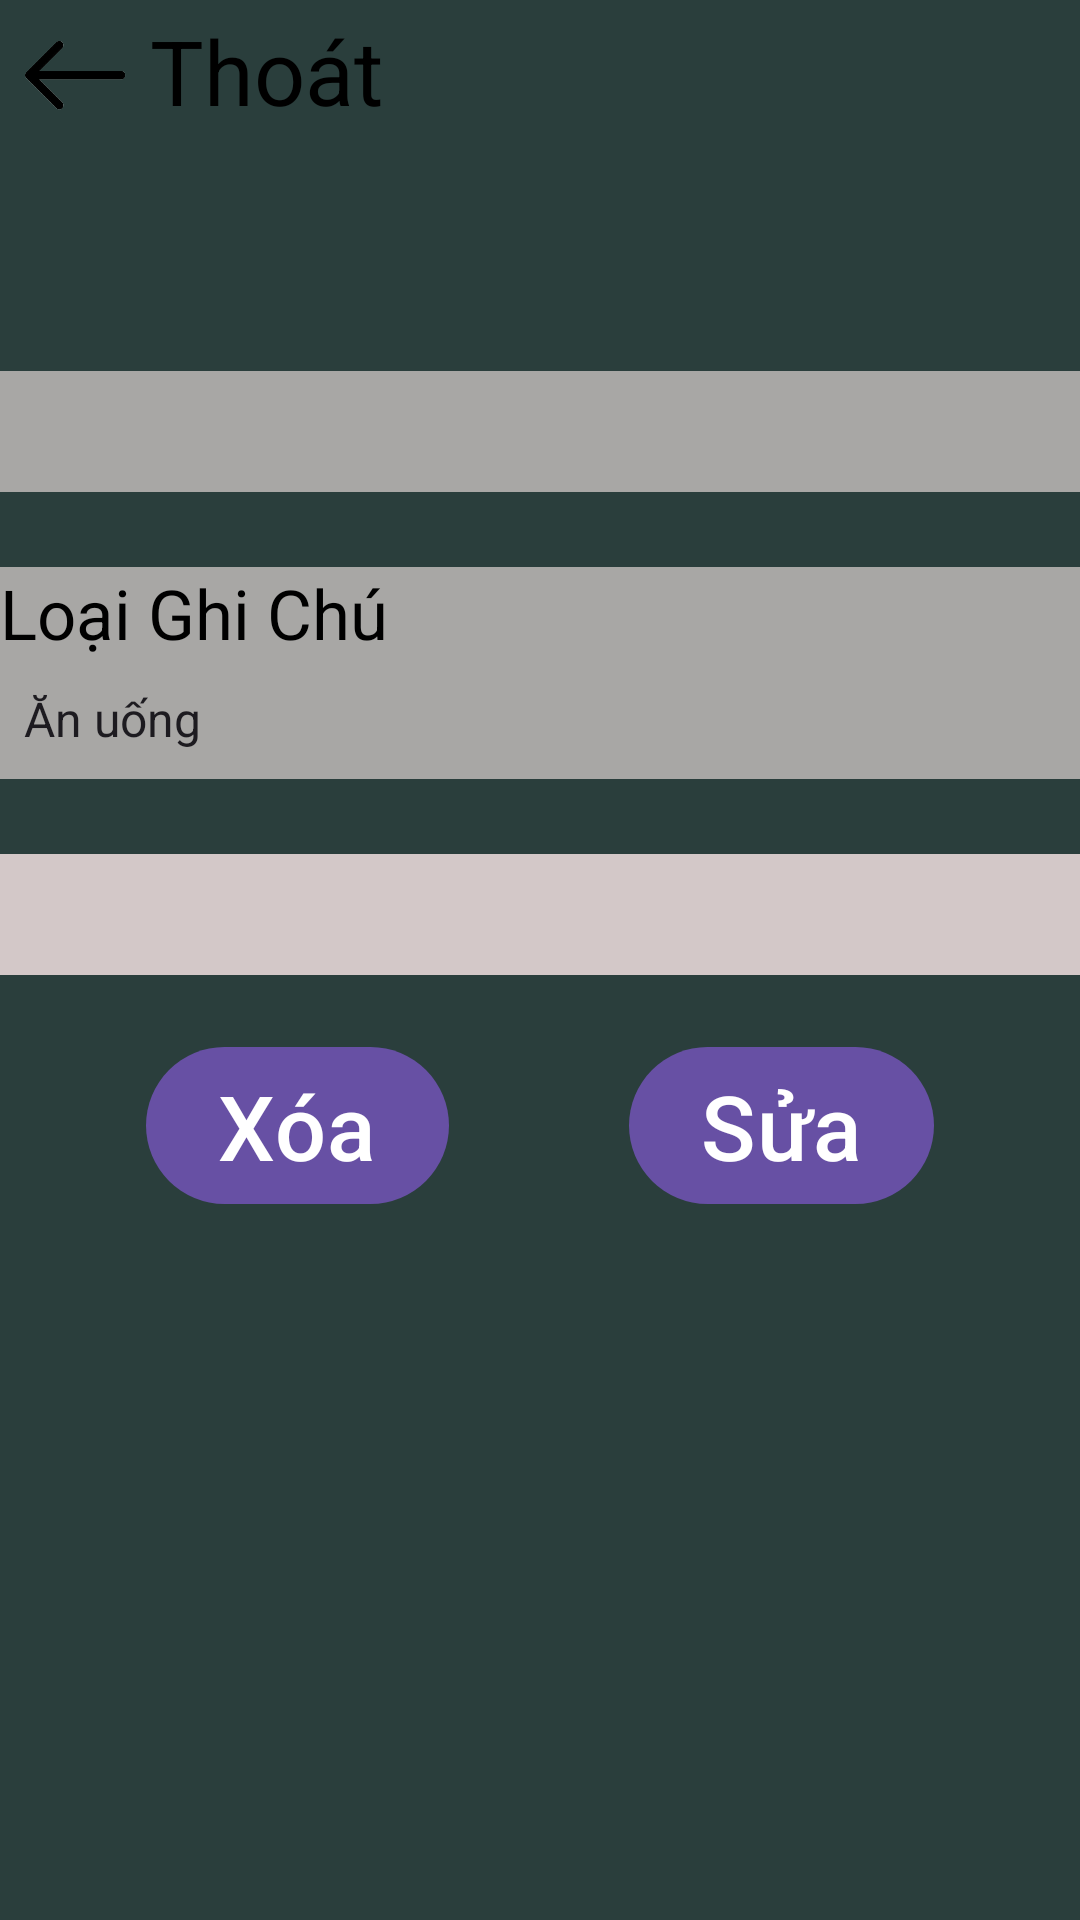

Point at icon controls on the screen. Image size 1080x1920, points as [x,y].
thoat: [75,75]
